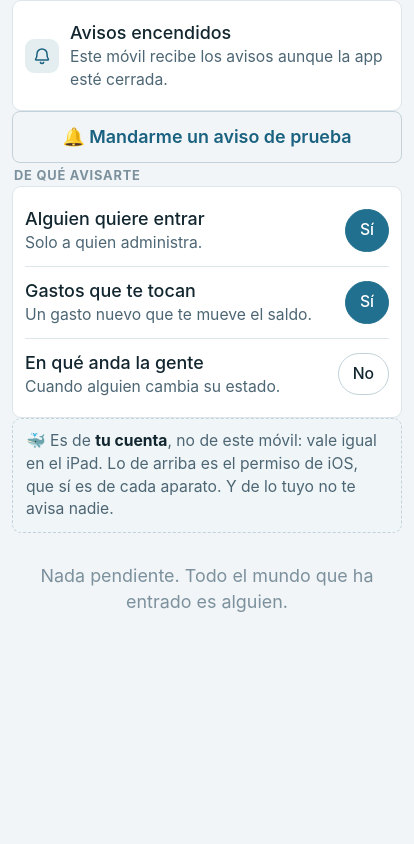
it: de qué avisarte › si el guardado falla, el interruptor vuelve a donde estaba
The width and height of the screenshot is (414, 844).
Click the button "Sí" next to "Un gasto nuevo que te mueve el saldo.": (367, 302) x1=345 y1=281 x2=389 y2=324
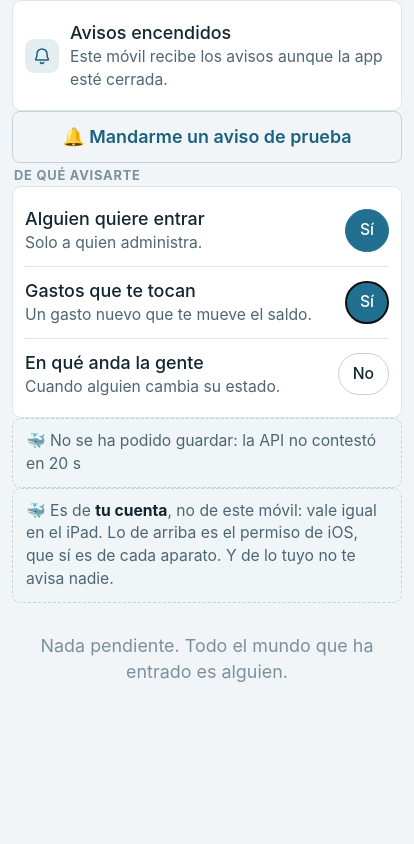
Check: the text "🐳 No se ha podido guardar: la API no contestó en 20 s" is shown, box x1=12 y1=418 x2=402 y2=488
